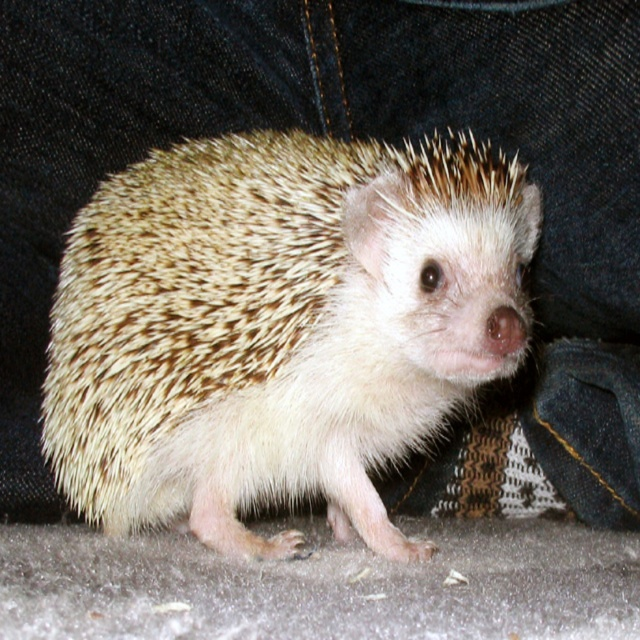Hedgehog: (35, 121, 546, 564)
